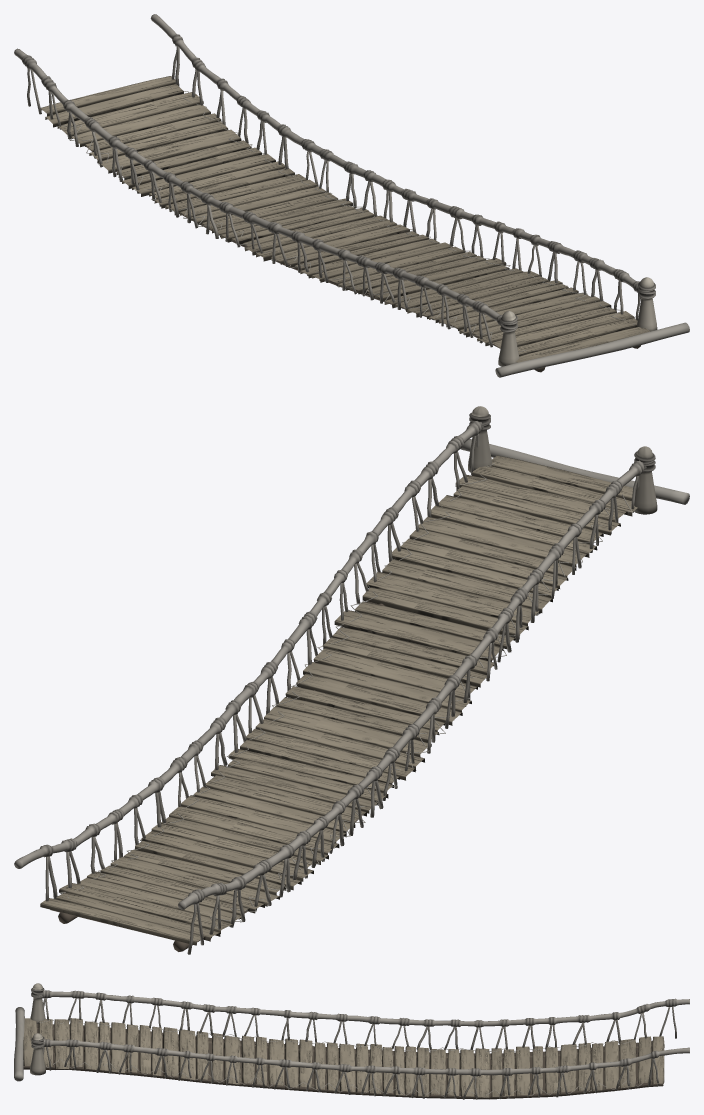
File: bridge.glb
The picture shows the model from 3 angles, top to bottom: view 1: azimuth 30°, elevation 25°; view 2: azimuth 150°, elevation 25°; view 3: azimuth 270°, elevation 25°; orthographic projection. The views are drawn at different scales.
Parts seen in each view (by area): view 1: bridge_planks, bridge_rails, bridge_stakes, bridge_sill, bridge_posts, bridge_lacing; view 2: bridge_planks, bridge_rails, bridge_stakes, bridge_posts, bridge_lacing, bridge_sill; view 3: bridge_planks, bridge_rails, bridge_stakes, bridge_backing, bridge_under, bridge_lacing, bridge_posts, bridge_sill.
Part boxes in pixels (left/top/right/bottom): bridge_planks: left=41, top=76, right=650, bottom=362; bridge_rails: left=14, top=14, right=639, bottom=325; bridge_stakes: left=27, top=46, right=641, bottom=347; bridge_sill: left=495, top=322, right=689, bottom=377; bridge_posts: left=498, top=277, right=657, bottom=366; bridge_lacing: left=61, top=87, right=635, bottom=351; bridge_planks: left=40, top=455, right=637, bottom=945; bridge_rails: left=14, top=421, right=646, bottom=909; bridge_stakes: left=45, top=433, right=639, bottom=954; bridge_posts: left=468, top=406, right=657, bottom=514; bridge_lacing: left=60, top=463, right=632, bottom=928; bridge_sill: left=460, top=439, right=689, bottom=504; bridge_planks: left=23, top=1018, right=664, bottom=1097; bridge_rails: left=41, top=990, right=689, bottom=1076; bridge_stakes: left=42, top=998, right=676, bottom=1099; bridge_backing: left=23, top=1024, right=660, bottom=1096; bridge_under: left=23, top=1027, right=663, bottom=1099; bridge_lacing: left=39, top=1019, right=646, bottom=1096; bridge_posts: left=30, top=983, right=45, bottom=1075; bridge_sill: left=14, top=1007, right=24, bottom=1081.
Bounding box in the file's own units: 3.41 × 1.76 × 12.14.
2 materials, 1 textured.
